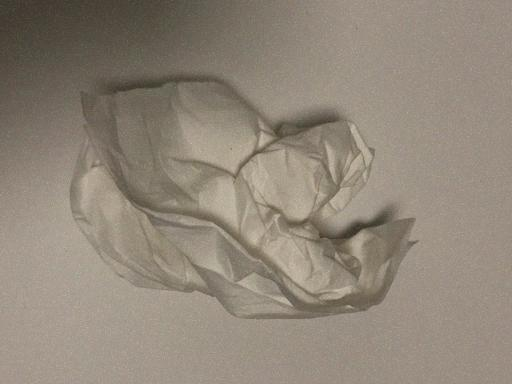trash: (70, 76, 417, 320)
